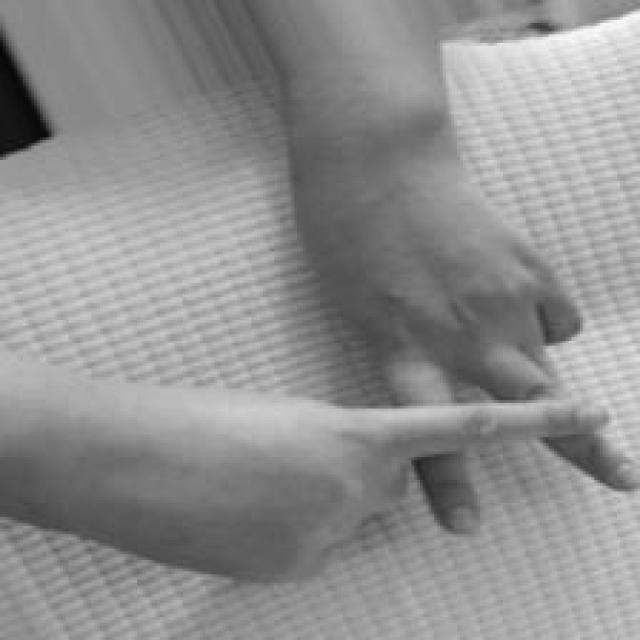A: (176, 194, 640, 590)
